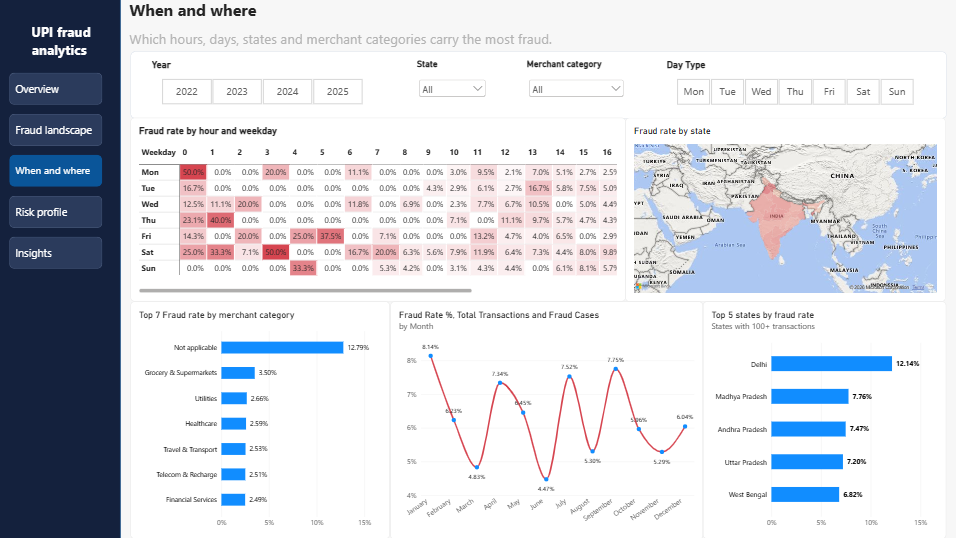

The page's visual inventory and layout, read from the dashboard file:
{"tool":"powerbi","page":{"name":"When and where","canvas":[1920,1080],"ordinal":2},"visuals":[{"type":"textbox","box":[263,0,1146,102.6],"z":0},{"type":"shape","box":[0,0,244.9,1080.6],"z":1000},{"type":"textbox","box":[0,47.3,244.9,72],"z":2000},{"type":"pageNavigator","box":[23.5,147.5,186,393.4],"z":3000},{"type":"shape","box":[263.8,103.8,1632.4,134.1],"z":4000},{"type":"slicer","title":"Year","fields":{"Values":["upi_transactions_2022_2025_clean_5k.txn_datetime.Variation.Date Hierarchy.Year"]},"box":[307,118.9,440.5,92.6],"z":5000},{"type":"slicer","title":"State","fields":{"Values":["upi_transactions_2022_2025_clean_5k.device_type"]},"box":[836.8,118.9,142.7,93],"z":6000},{"type":"slicer","title":"Merchant category","fields":{"Values":["upi_transactions_2022_2025_clean_5k.merchant_category"]},"box":[1057.3,118.9,198.9,93],"z":7000},{"type":"slicer","title":"Day Type","fields":{"Values":["upi_transactions_2022_2025_clean_5k.Weekday"]},"box":[1338.4,118.9,512.4,93],"z":8000},{"type":"pivotTable","title":"Fraud rate by hour and weekday","fields":{"Columns":["upi_transactions_2022_2025_clean_5k.Hour"],"Rows":["upi_transactions_2022_2025_clean_5k.Weekday"],"Values":["Measures (2).Fraud Rate %"]},"box":[265.9,237.8,990.3,367.6],"z":9000},{"type":"filledMap","title":"Fraud rate by state","fields":{"Category":["upi_transactions_2022_2025_clean_5k.State Map"]},"box":[1256,238,640,368],"z":10000},{"type":"clusteredBarChart","title":"Top 7 Fraud rate by merchant category","fields":{"Category":["upi_transactions_2022_2025_clean_5k.merchant_category"],"Y":["Measures (2).Fraud Rate %"]},"box":[266,606,518,474],"z":11000},{"type":"lineChart","fields":{"Category":["upi_transactions_2022_2025_clean_5k.txn_datetime.Variation.Date Hierarchy.Month"],"Y":["Measures (2).Fraud Rate %"]},"box":[784.9,605.4,624.9,475.7],"z":12000},{"type":"clusteredBarChart","title":"Top 5 states by fraud rate","fields":{"Category":["upi_transactions_2022_2025_clean_5k.sender_state"],"Y":["Measures (2).Fraud Rate (min 100 txns)"]},"box":[1410,606,486,474],"z":13000}]}

Visuals, with their boxes on the page's 1920x1080 design canvas (x1, y1, x2, y2). These are canvas units, not pixel positions in the 956x538 screenshot, which may show the page scaled, cropped or inside an application window:
textbox: select_region(263, 0, 1409, 103)
shape: select_region(0, 0, 245, 1081)
textbox: select_region(0, 47, 245, 119)
pageNavigator: select_region(24, 148, 210, 541)
shape: select_region(264, 104, 1896, 238)
"Year" slicer: select_region(307, 119, 748, 212)
"State" slicer: select_region(837, 119, 980, 212)
"Merchant category" slicer: select_region(1057, 119, 1256, 212)
"Day Type" slicer: select_region(1338, 119, 1851, 212)
"Fraud rate by hour and weekday" pivotTable: select_region(266, 238, 1256, 605)
"Fraud rate by state" filledMap: select_region(1256, 238, 1896, 606)
"Top 7 Fraud rate by merchant category" clusteredBarChart: select_region(266, 606, 784, 1080)
lineChart - upi_transactions_2022_2025_clean_5k.txn_datetime.Variation.Date Hierarchy.Month x Measures (2).Fraud Rate %: select_region(785, 605, 1410, 1081)
"Top 5 states by fraud rate" clusteredBarChart: select_region(1410, 606, 1896, 1080)
